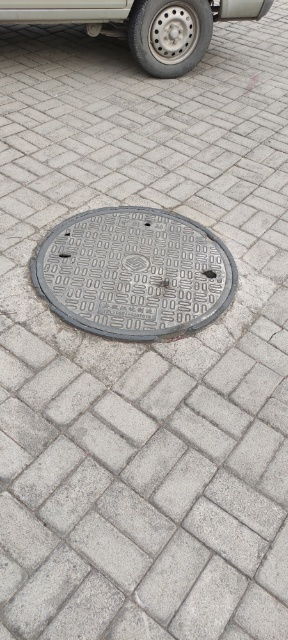broke: (28, 206, 238, 340)
